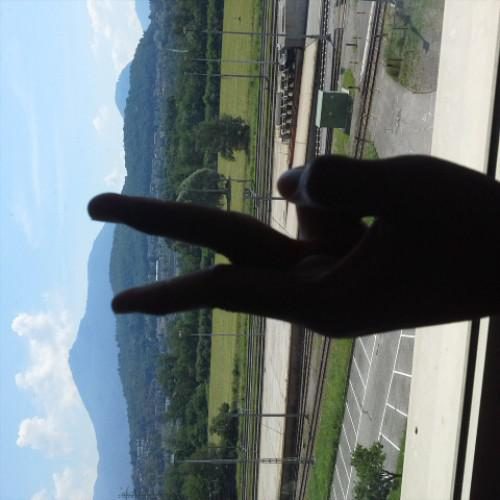scissors: (82, 147, 500, 343)
